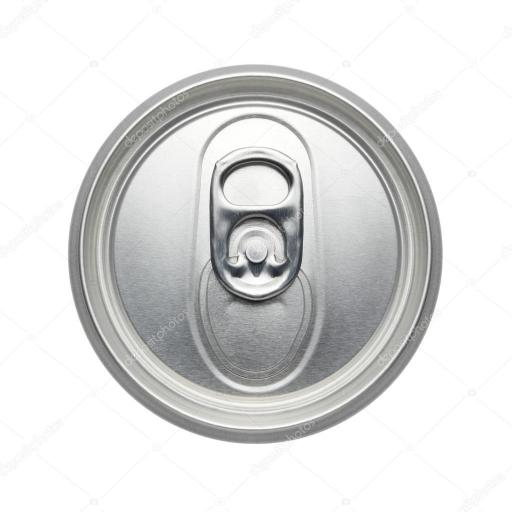can: (68, 64, 447, 448)
pop tab: (208, 145, 306, 301)
